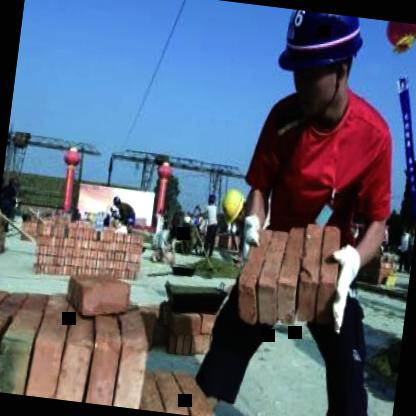helmet: (266, 7, 368, 130), (216, 181, 248, 226)
